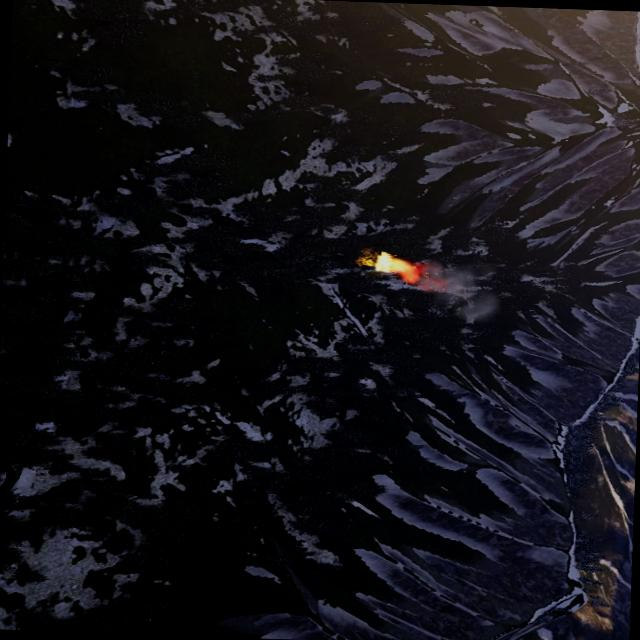fire: (372, 251, 419, 281)
smoke: (408, 259, 500, 324)
